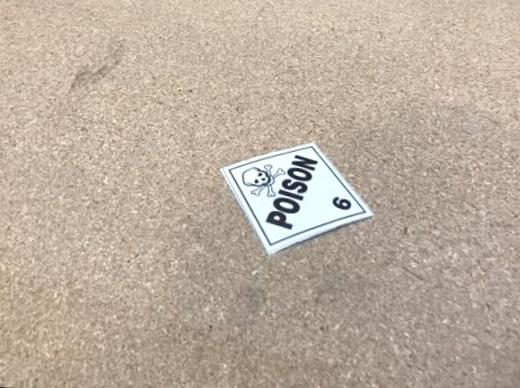poison: (217, 137, 377, 261)
